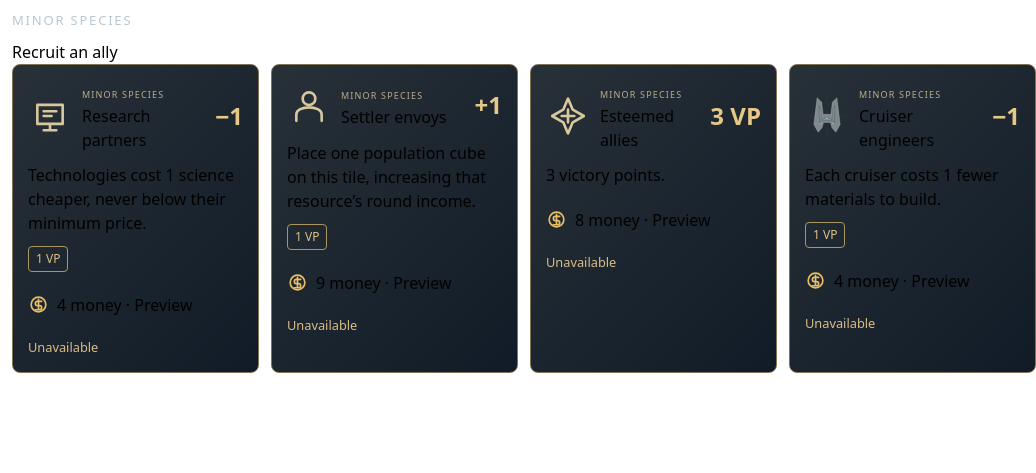
Test: shows funding and turn blockers while allowing people to browse the market
Click the button "4 money · Preview" below "Research partners" at coordinates (136, 304), box [28,282,243,326]
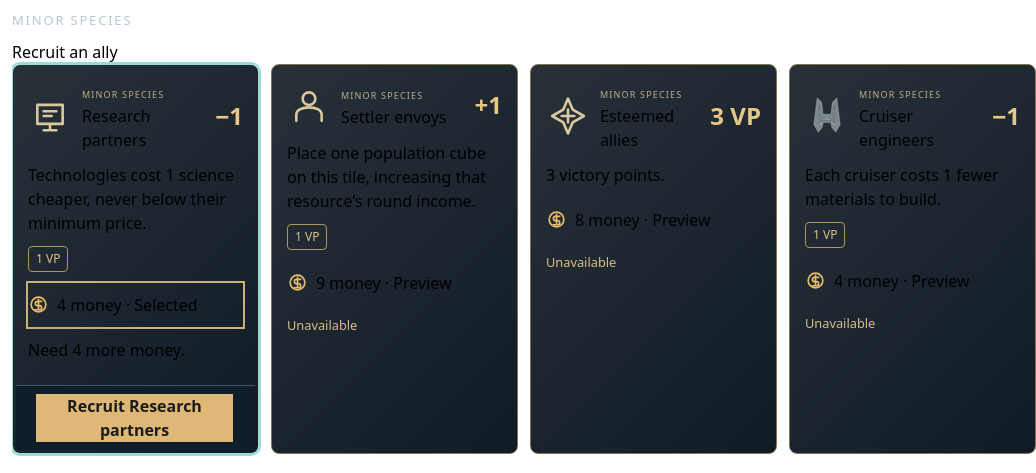
Expected: the button with aria-label "Buy" is disabled, [36,394,233,442]
Expected: the text "Need 4 more money." is shown, [28,338,185,360]
